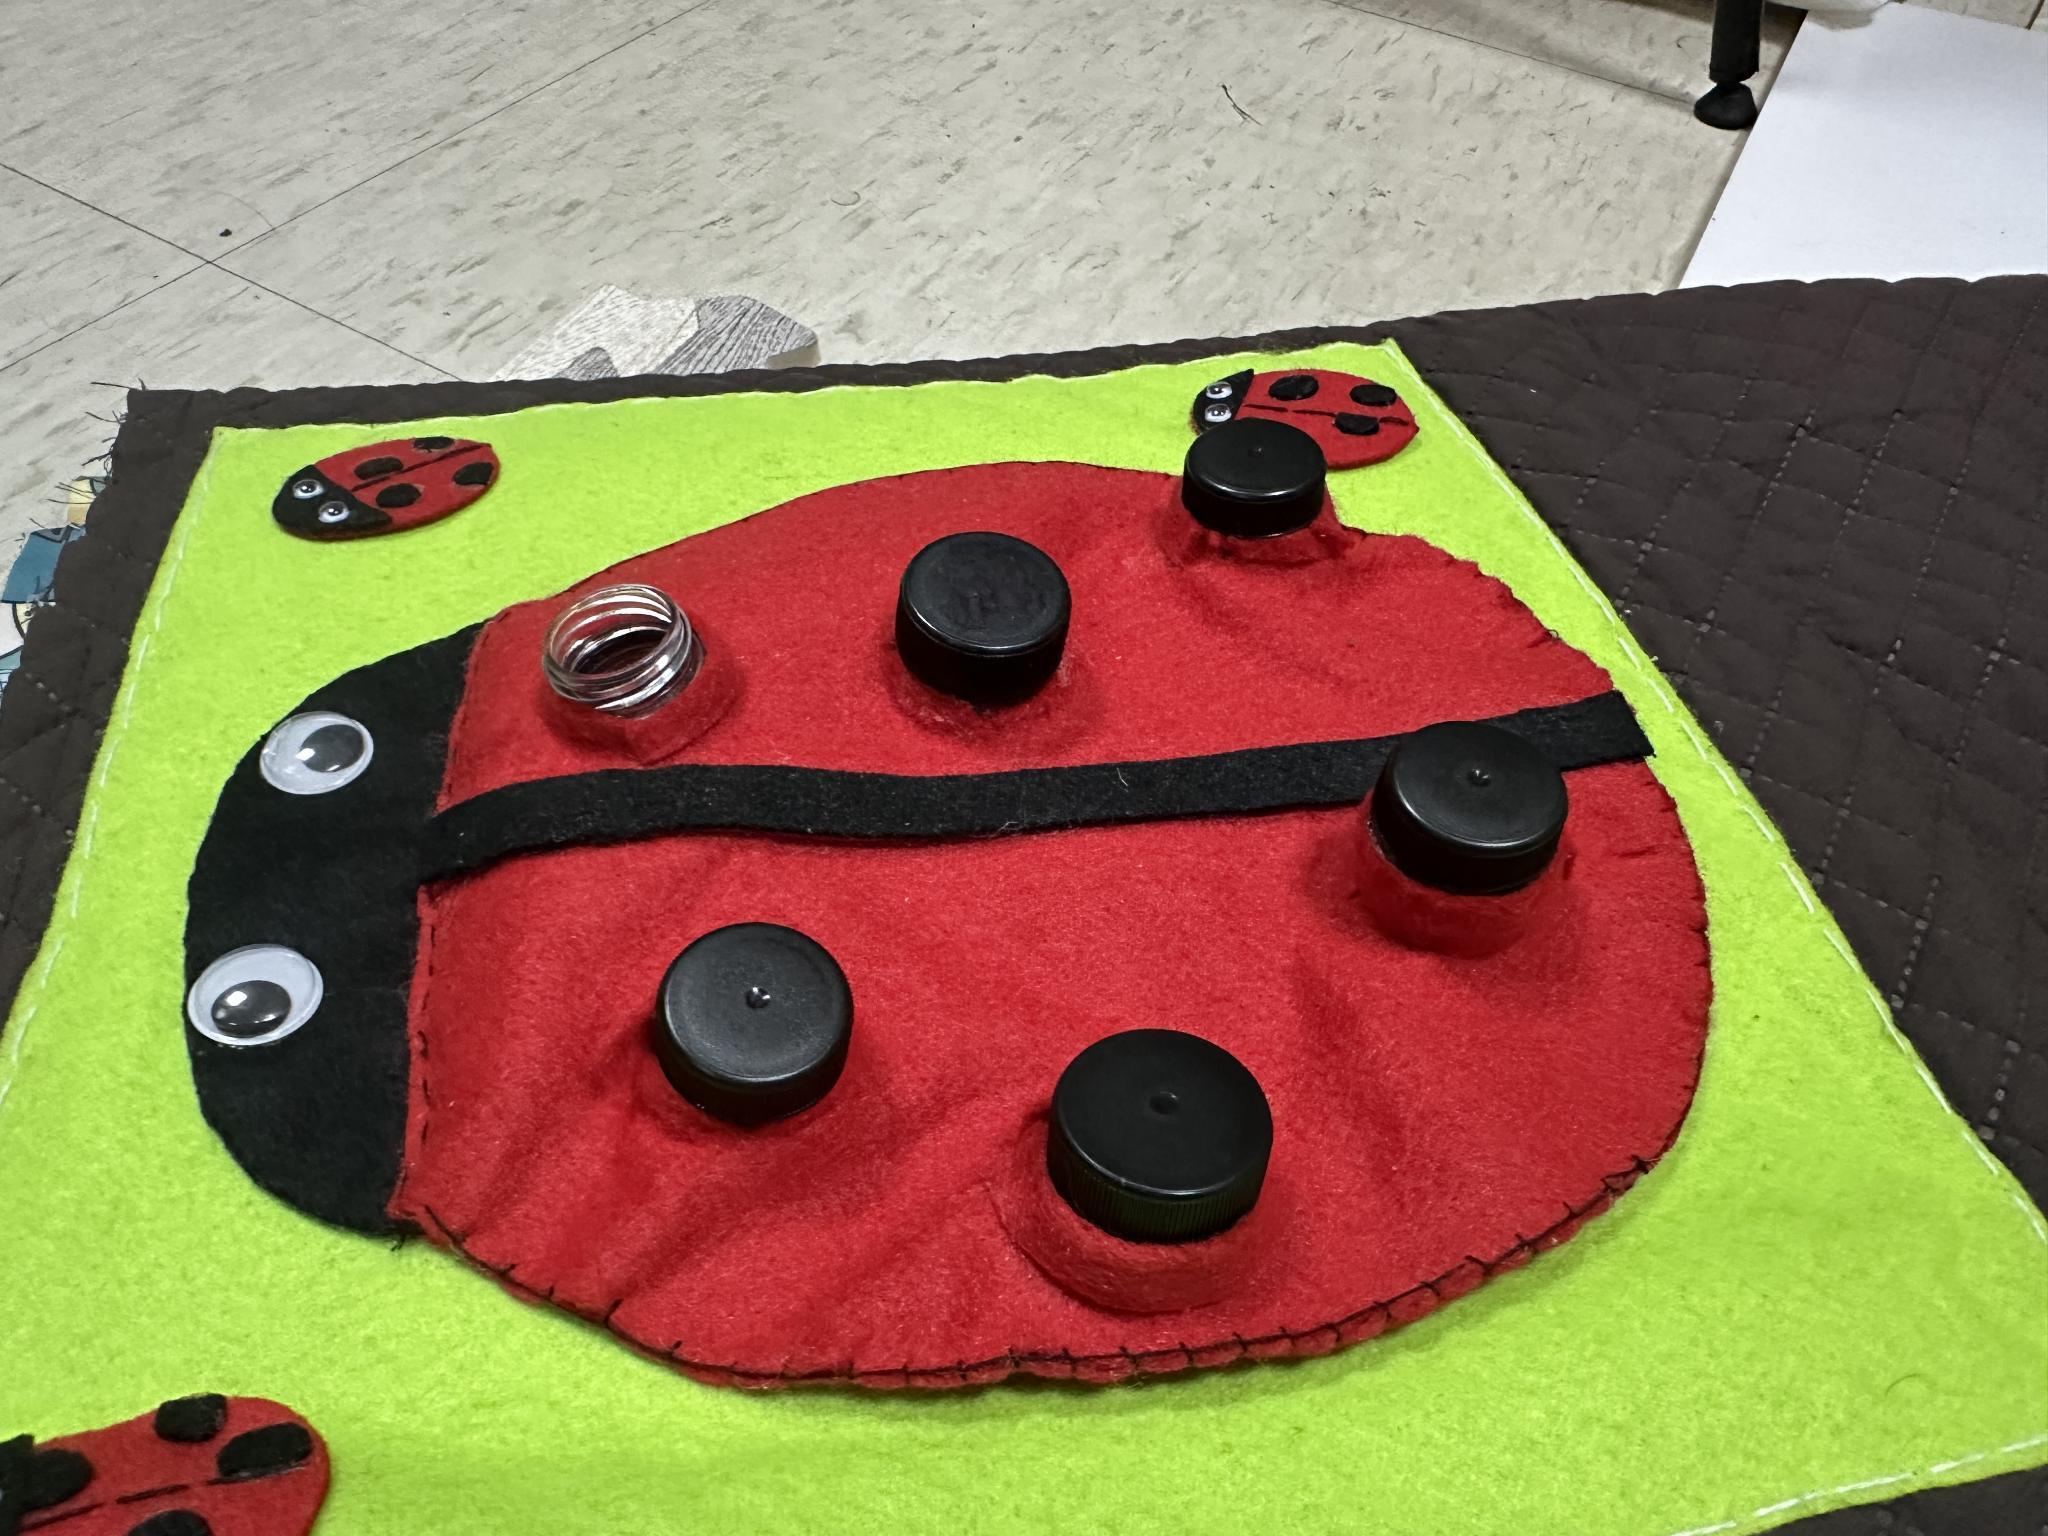cap_ok: (1008, 1012, 1311, 1315), (1338, 715, 1608, 970), (621, 912, 895, 1154), (871, 524, 1095, 737), (1174, 416, 1358, 573)
